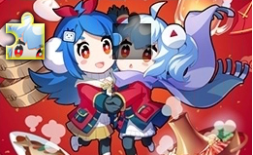gap: (113, 12, 151, 59)
